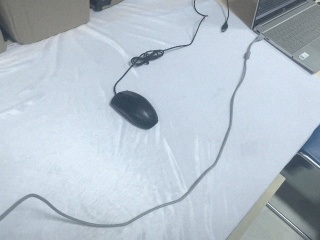box: (1, 1, 92, 46)
mouse: (109, 90, 160, 130)
